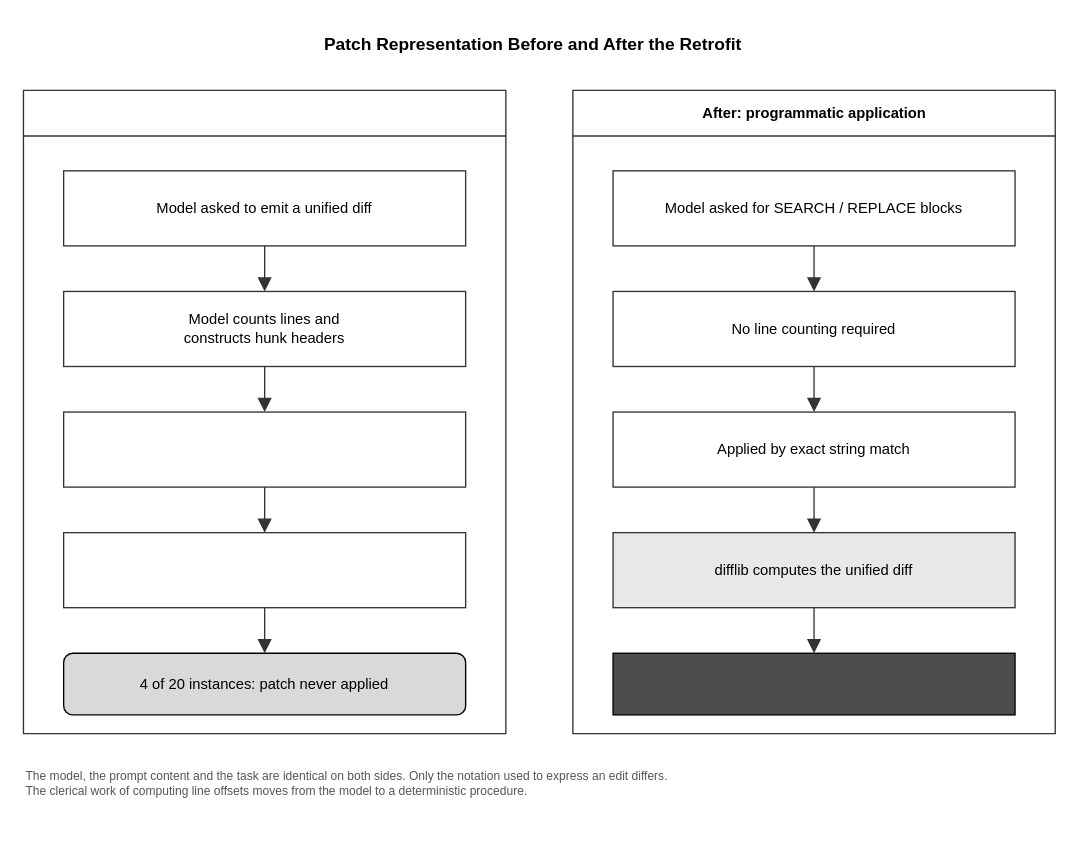
Image size: 1092x850. Some labels were removed from this diagram. The box of each missing label's shape, as (x1, y1, x2, y2) in pixels:
3 of 3 evaluable format failures resolved: (612, 652, 1015, 715)
Before: model-authored unified diff: (22, 89, 506, 734)
Harness attempts to apply patch: (62, 531, 466, 608)
Text forwarded to harness unchanged: (62, 411, 466, 487)
